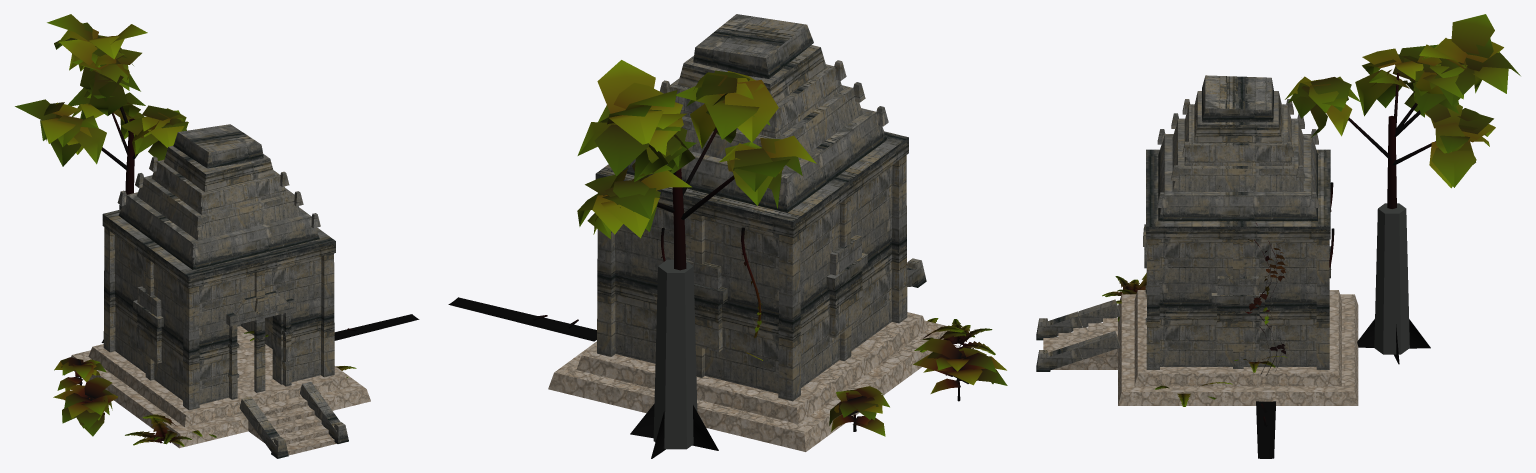
The model's file is prasat_ruin_02.glb.
3 views of the same model, side by side, from view 1: azimuth 30°, elevation 25°; view 2: azimuth 150°, elevation 25°; view 3: azimuth 270°, elevation 25° (orthographic). The views are drawn at different scales.
Parts seen in each view (by area): view 1: prasat_ruin_02, prasat_ruin_02_veg_00_broadleaf_a, prasat_ruin_02_veg_11_bush_c, prasat_ruin_02_veg_10_bush_a, prasat_ruin_02_veg_14_fallen_log_b, prasat_ruin_02_veg_08_fern_b; view 2: prasat_ruin_02, prasat_ruin_02_veg_00_broadleaf_a, prasat_ruin_02-col, prasat_ruin_02_veg_11_bush_c, prasat_ruin_02_veg_10_bush_a, prasat_ruin_02_veg_14_fallen_log_b, prasat_ruin_02_veg_08_fern_b; view 3: prasat_ruin_02, prasat_ruin_02_veg_00_broadleaf_a, prasat_ruin_02-col, prasat_ruin_02_veg_14_fallen_log_b.
Part boxes in pixels (left/top/right/bottom): prasat_ruin_02: left=71, top=124, right=370, bottom=458; prasat_ruin_02_veg_00_broadleaf_a: left=15, top=14, right=188, bottom=342; prasat_ruin_02_veg_11_bush_c: left=53, top=377, right=117, bottom=436; prasat_ruin_02_veg_10_bush_a: left=54, top=357, right=106, bottom=390; prasat_ruin_02_veg_14_fallen_log_b: left=334, top=314, right=419, bottom=340; prasat_ruin_02_veg_08_fern_b: left=125, top=417, right=191, bottom=446; prasat_ruin_02: left=548, top=14, right=949, bottom=451; prasat_ruin_02_veg_00_broadleaf_a: left=577, top=60, right=816, bottom=458; prasat_ruin_02-col: left=653, top=259, right=697, bottom=449; prasat_ruin_02_veg_11_bush_c: left=913, top=338, right=1007, bottom=401; prasat_ruin_02_veg_10_bush_a: left=829, top=386, right=889, bottom=436; prasat_ruin_02_veg_14_fallen_log_b: left=448, top=297, right=596, bottom=341; prasat_ruin_02_veg_08_fern_b: left=920, top=319, right=995, bottom=355; prasat_ruin_02: left=1036, top=75, right=1358, bottom=405; prasat_ruin_02_veg_00_broadleaf_a: left=1285, top=14, right=1520, bottom=364; prasat_ruin_02-col: left=1374, top=203, right=1409, bottom=354; prasat_ruin_02_veg_14_fallen_log_b: left=1256, top=401, right=1275, bottom=458.
Size of the model in its own units: 11.45 by 8.3 by 11.7.
13 materials, 13 textured.
